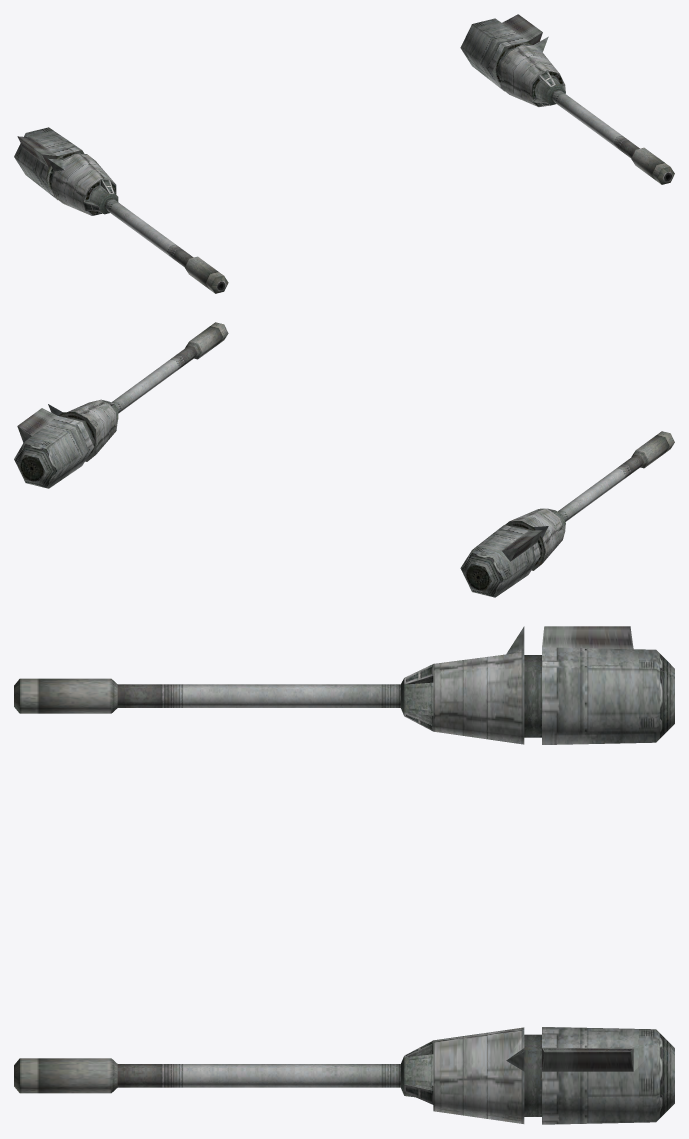
Rendered from black_sun_fighter_heavy_weapon3_s05_l1.fbx.
3 renders of one model, top to bottom at view 1: azimuth 30°, elevation 25°; view 2: azimuth 150°, elevation 25°; view 3: azimuth 270°, elevation 25°, orthographic. The views are drawn at different scales.
Visible parts, largest first — view 1: mesh_node; view 2: mesh_node; view 3: mesh_node.
Boxes of the visible parts, <box> form: mesh_node: <box>14,14,674,293</box>; mesh_node: <box>14,322,674,597</box>; mesh_node: <box>14,626,674,1124</box>.
Bounding box in the file's own units: 13.42 × 1.25 × 8.8.
1 material, 1 textured.
